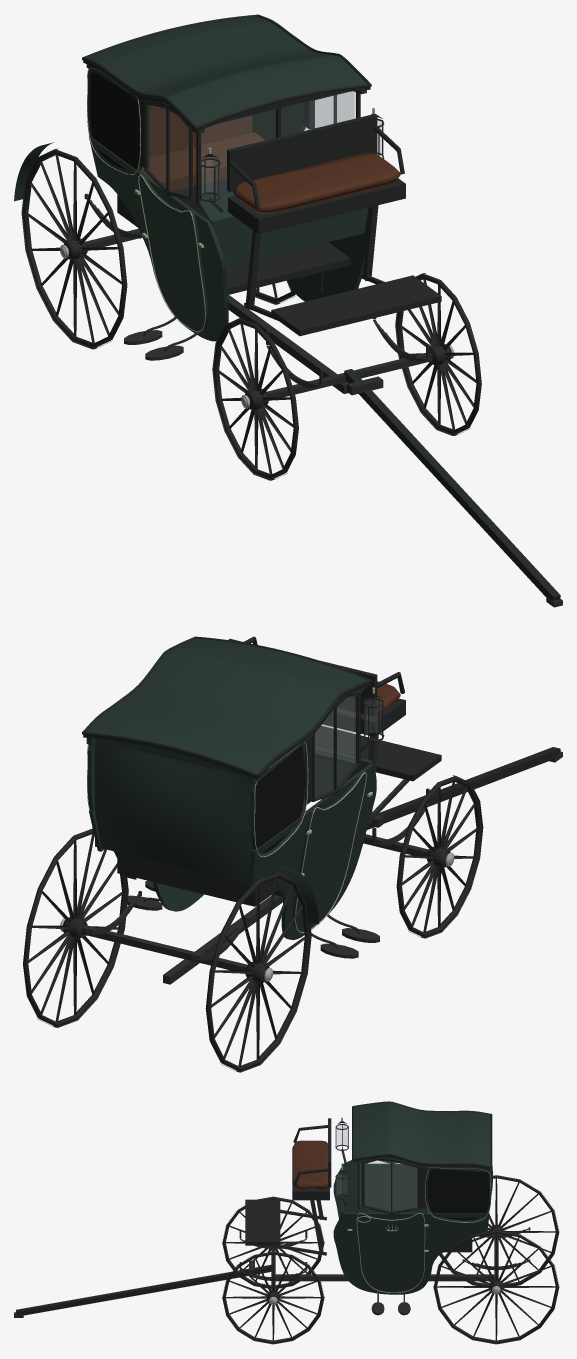
The model's file is brougham-mid.glb.
3 renders of one model, top to bottom at view 1: azimuth 30°, elevation 25°; view 2: azimuth 150°, elevation 25°; view 3: azimuth 270°, elevation 25°, orthographic. The views are drawn at different scales.
Visible parts, largest first — view 1: surface_vehicle_body_0, surface_vehicle_body_1, surface_vehicle_body_2, surface_vehicle_body_5, surface_vehicle_wheel_rear_right_1, surface_vehicle_wheel_front_right_1, surface_vehicle_wheel_front_left_1, surface_vehicle_team_pole_1, surface_vehicle_body_4, surface_vehicle_body_6, surface_vehicle_root_4, surface_vehicle_steer_front_4 (+1 smaller); view 2: surface_vehicle_body_0, surface_vehicle_body_1, surface_vehicle_wheel_rear_right_1, surface_vehicle_wheel_rear_left_1, surface_vehicle_wheel_front_right_1, surface_vehicle_body_6, surface_vehicle_body_5, surface_vehicle_body_4, surface_vehicle_root_4, surface_vehicle_team_pole_1, surface_vehicle_running_gear_rear_4, surface_vehicle_body_3 (+2 smaller); view 3: surface_vehicle_body_0, surface_vehicle_body_1, surface_vehicle_wheel_rear_left_1, surface_vehicle_body_5, surface_vehicle_body_6, surface_vehicle_wheel_front_left_1, surface_vehicle_wheel_rear_right_1, surface_vehicle_team_pole_1, surface_vehicle_root_4, surface_vehicle_body_2, surface_vehicle_body_4, surface_vehicle_wheel_front_right_1 (+2 smaller).
Part boxes in pixels (x1,y1,x2,y2): surface_vehicle_body_0: (86,16,369,341); surface_vehicle_body_1: (82,14,441,336); surface_vehicle_body_2: (140,105,400,213); surface_vehicle_body_5: (148,91,383,198); surface_vehicle_wheel_rear_right_1: (23,150,127,348); surface_vehicle_wheel_front_right_1: (213,318,298,479); surface_vehicle_wheel_front_left_1: (396,274,481,434); surface_vehicle_team_pole_1: (344,369,560,600); surface_vehicle_body_4: (124,113,384,360); surface_vehicle_body_6: (90,71,138,169); surface_vehicle_root_4: (84,193,429,393); surface_vehicle_steer_front_4: (267,353,432,400); surface_vehicle_body_0: (86,638,376,939); surface_vehicle_body_1: (82,636,441,906); surface_vehicle_wheel_rear_right_1: (205,873,310,1071); surface_vehicle_wheel_rear_left_1: (23,828,127,1026); surface_vehicle_wheel_front_right_1: (396,776,481,937); surface_vehicle_body_6: (255,745,304,853); surface_vehicle_body_5: (315,697,382,797); surface_vehicle_body_4: (127,693,409,958); surface_vehicle_root_4: (84,788,429,984); surface_vehicle_team_pole_1: (367,747,560,829); surface_vehicle_running_gear_rear_4: (82,925,247,973); surface_vehicle_body_3: (87,687,374,933); surface_vehicle_body_0: (333,1102,492,1294); surface_vehicle_body_1: (245,1101,492,1252); surface_vehicle_wheel_rear_left_1: (434,1230,558,1343); surface_vehicle_body_5: (336,1125,417,1210); surface_vehicle_body_6: (428,1169,489,1220); surface_vehicle_wheel_front_left_1: (223,1251,323,1343); surface_vehicle_wheel_rear_right_1: (439,1175,558,1285); surface_vehicle_team_pole_1: (16,1264,272,1315); surface_vehicle_root_4: (239,1227,530,1281); surface_vehicle_body_2: (292,1140,327,1189); surface_vehicle_body_4: (265,1121,410,1315); surface_vehicle_wheel_front_right_1: (223,1196,323,1288).
Bounding box in the file's own units: 1.72 × 2.19 × 5.66.
